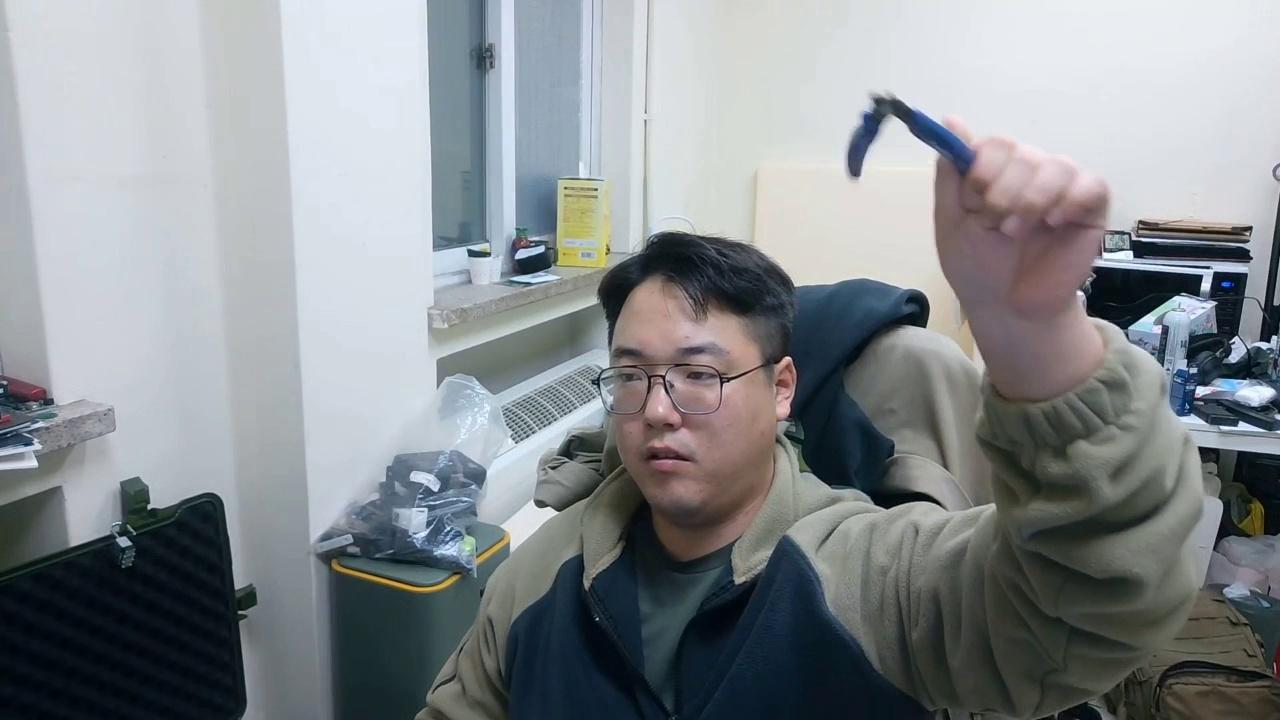blue_pliers: (845, 89, 980, 181)
